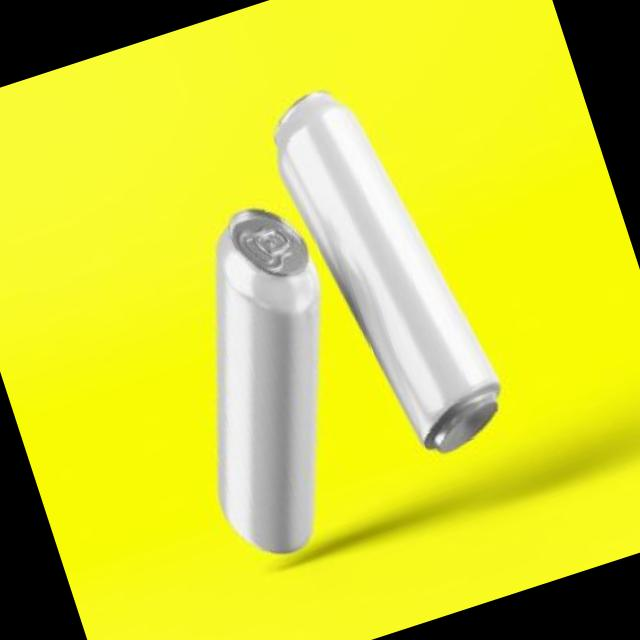Kaleng: (258, 62, 516, 474), (133, 192, 397, 570)
